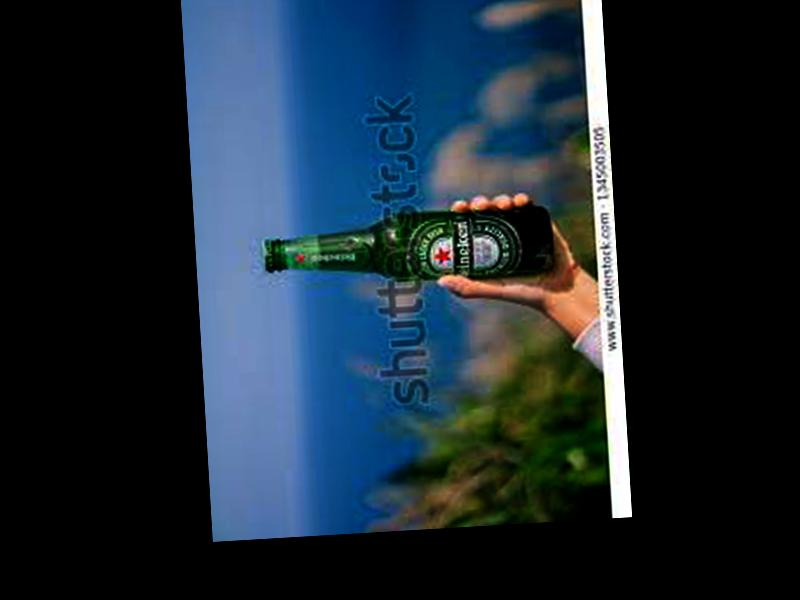Beer: (261, 205, 551, 293)
